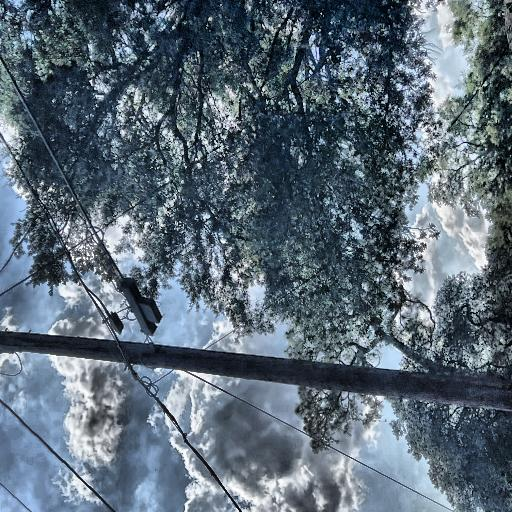pole: (0, 0, 73, 512)
street light: (0, 0, 48, 135)
